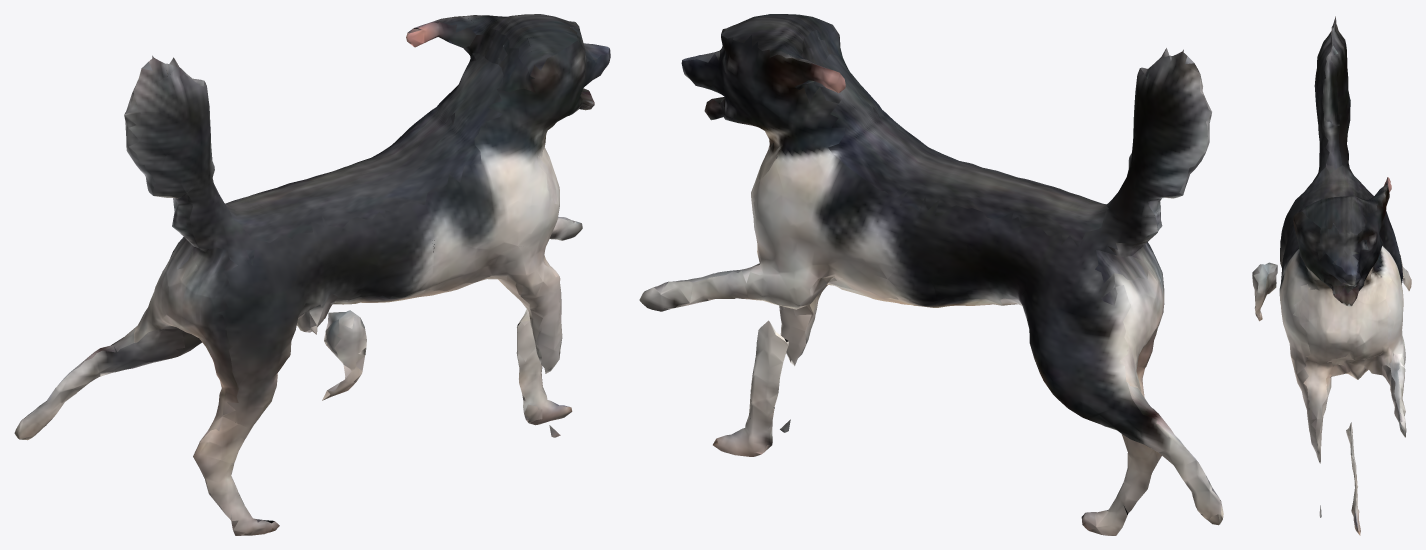
The model's file is asset.glb.
3 views of the same model, side by side, from view 1: azimuth 30°, elevation 25°; view 2: azimuth 150°, elevation 25°; view 3: azimuth 270°, elevation 25° (orthographic). The views are drawn at different scales.
Parts seen in each view (by area): view 1: world; view 2: world; view 3: world.
Boxes of the visible parts, x1,y1,x2,y2 form: world: (14,14,610,535); world: (639,14,1223,535); world: (1252,16,1411,535).
Size of the model in its own units: 0.5297 by 0.4445 by 0.171.
Materials: 1 (1 with a texture image).
